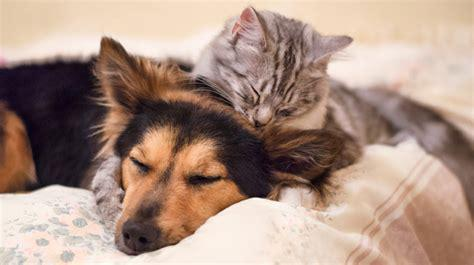cat: (192, 7, 405, 171)
dog: (1, 37, 336, 254)
